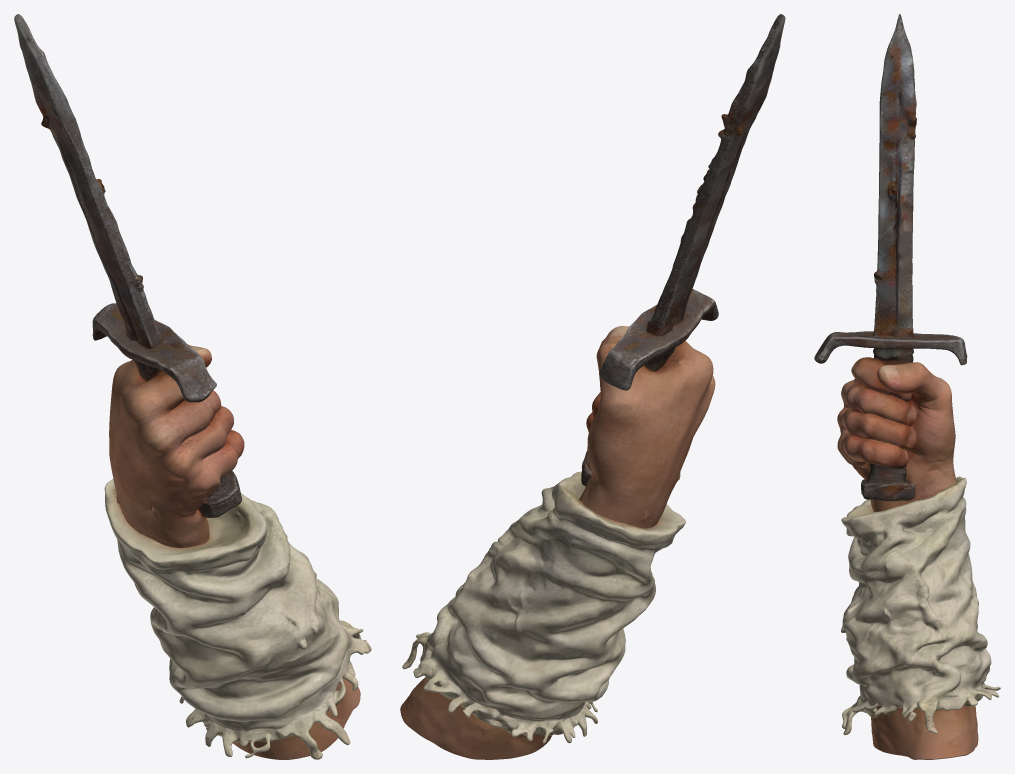
3 renders of one model, left to right at view 1: azimuth 30°, elevation 25°; view 2: azimuth 150°, elevation 25°; view 3: azimuth 270°, elevation 25°, orthographic. The views are drawn at different scales.
Parts seen in each view (by area): view 1: tripo_node_f1bcda73-959a-4fb3-905e-4567fb850223; view 2: tripo_node_f1bcda73-959a-4fb3-905e-4567fb850223; view 3: tripo_node_f1bcda73-959a-4fb3-905e-4567fb850223.
Part boxes in pixels (box(x1,y1,x2,y2)): tripo_node_f1bcda73-959a-4fb3-905e-4567fb850223: box(14, 14, 371, 759); tripo_node_f1bcda73-959a-4fb3-905e-4567fb850223: box(400, 14, 785, 759); tripo_node_f1bcda73-959a-4fb3-905e-4567fb850223: box(814, 14, 1000, 759).
Bounding box in the file's own units: 0.4834 × 1 × 0.2698.
Materials: 1 (1 with a texture image).
